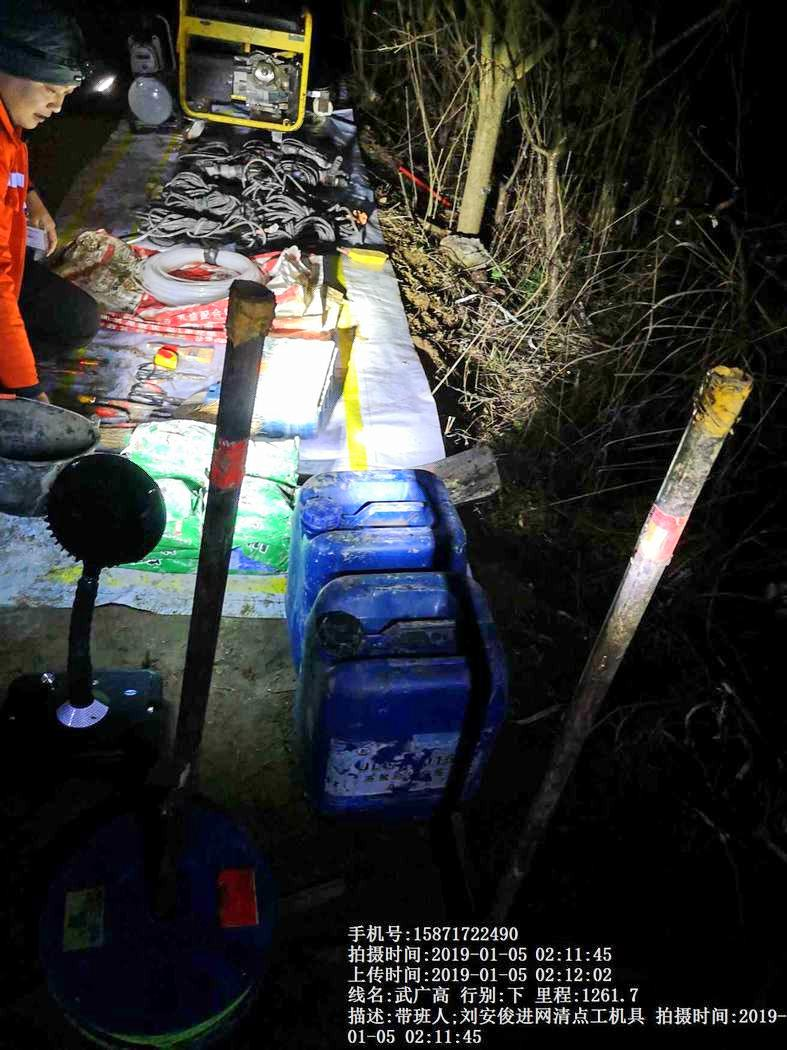DJ: (167, 5, 319, 142)
SG: (140, 235, 258, 306)
SLT: (300, 565, 506, 797), (287, 467, 469, 568)
